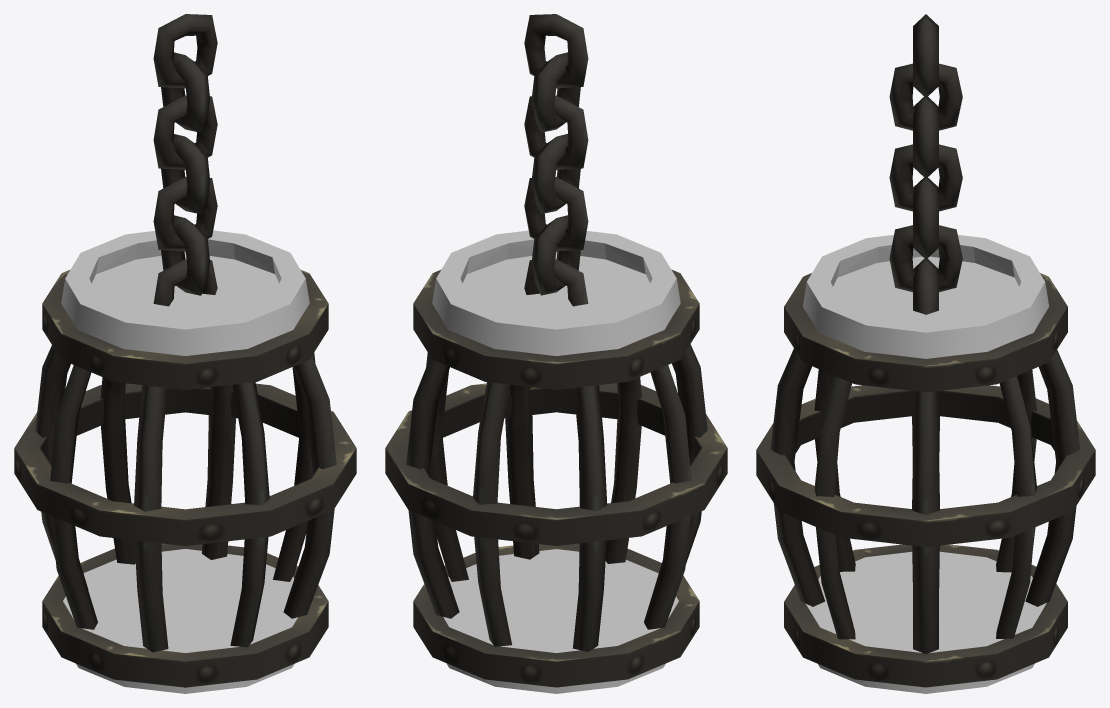
File: Dg_01_cage_001.FBX
3 renders of one model, left to right at view 1: azimuth 30°, elevation 25°; view 2: azimuth 150°, elevation 25°; view 3: azimuth 270°, elevation 25°, orthographic.
Parts seen in each view (by area): view 1: Dg_01_cage_001; view 2: Dg_01_cage_001; view 3: Dg_01_cage_001.
Part boxes in pixels (x1=…): Dg_01_cage_001: x1=14, y1=14, x2=356, y2=693; Dg_01_cage_001: x1=385, y1=14, x2=727, y2=693; Dg_01_cage_001: x1=756, y1=14, x2=1095, y2=693.
Bounding box in the file's own units: 2.09 × 4.23 × 2.09.
